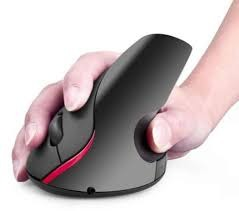mouse: (26, 104, 103, 190)
